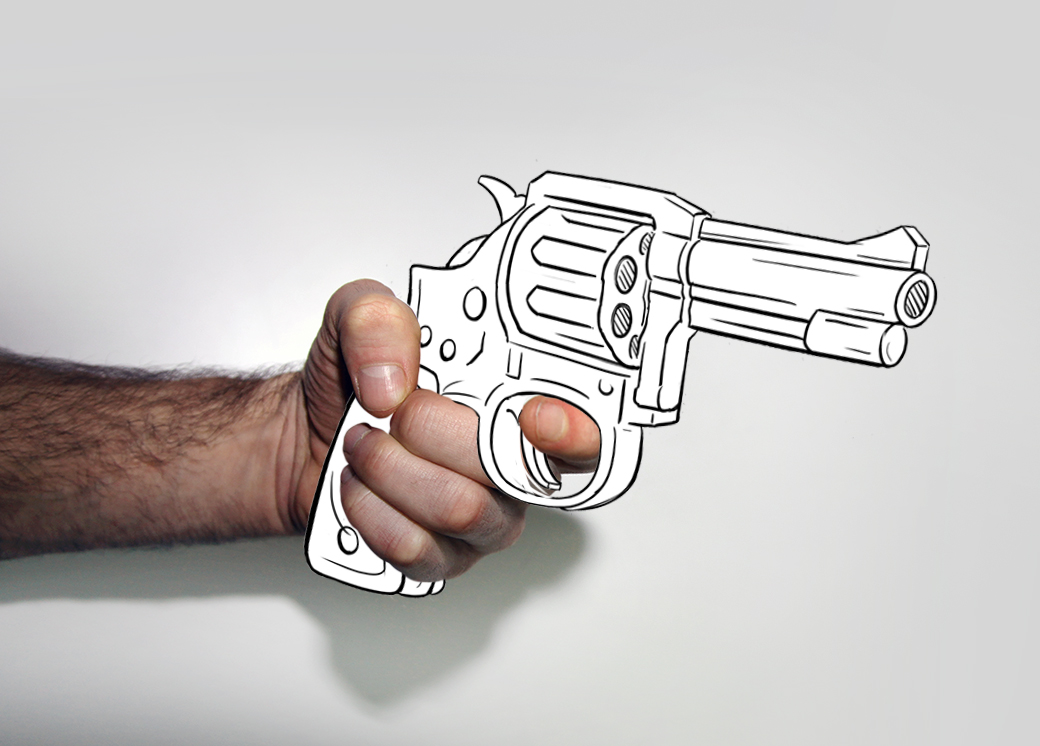pistol: (273, 99, 991, 733)
